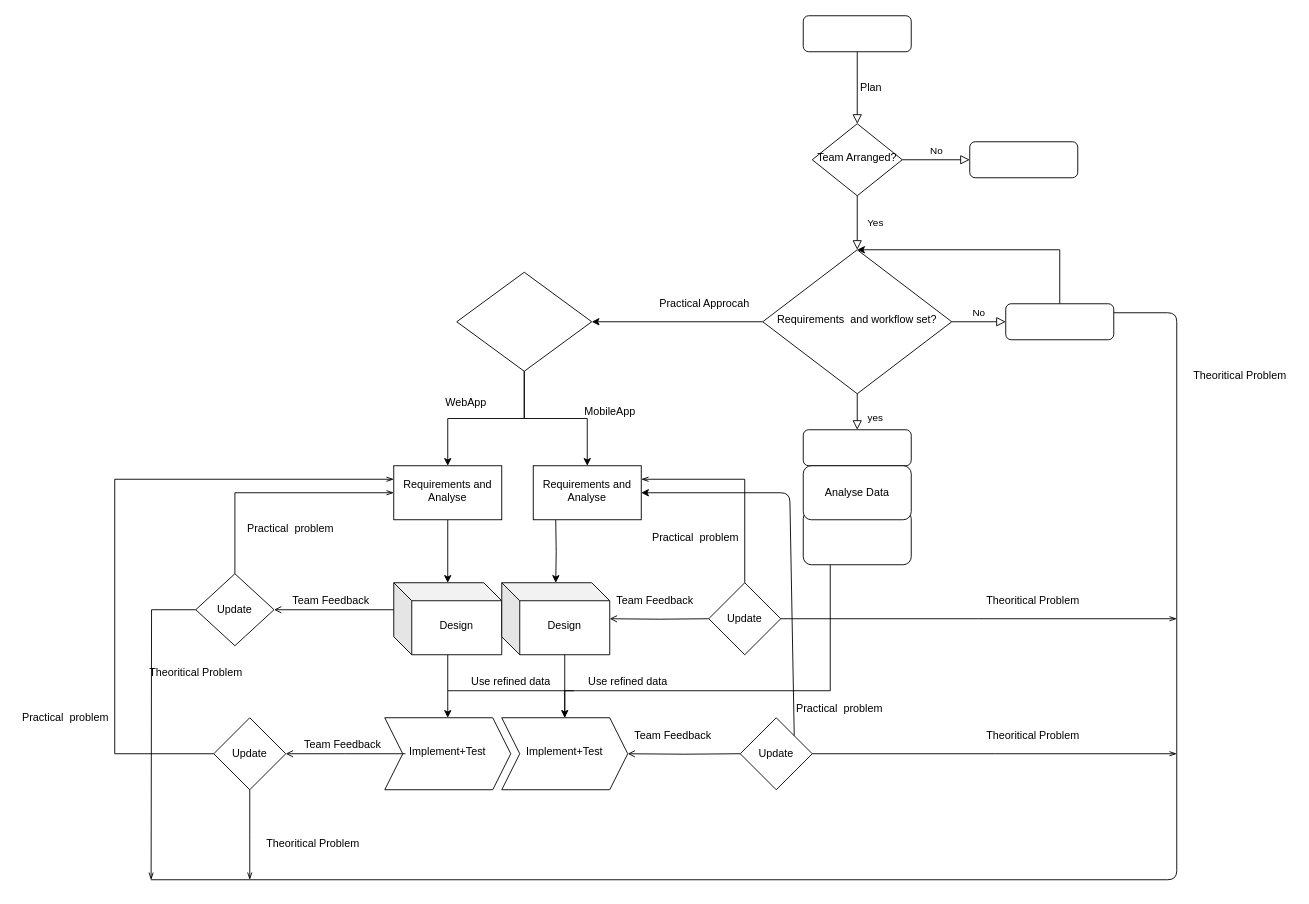
Image size: 1309x904. Some labels were removed from this diagram. Here are the shapes that lost their labels. From the top down, the centre of each, then its label:
At [856,33]: "We are here".
At [1023,159]: "Arrange the Team".
At [524,321]: "WebApp/ MobileApp".
At [1059,321]: "Plan again".
At [856,447]: "Collect Data".
At [856,537]: "Filter Data".
